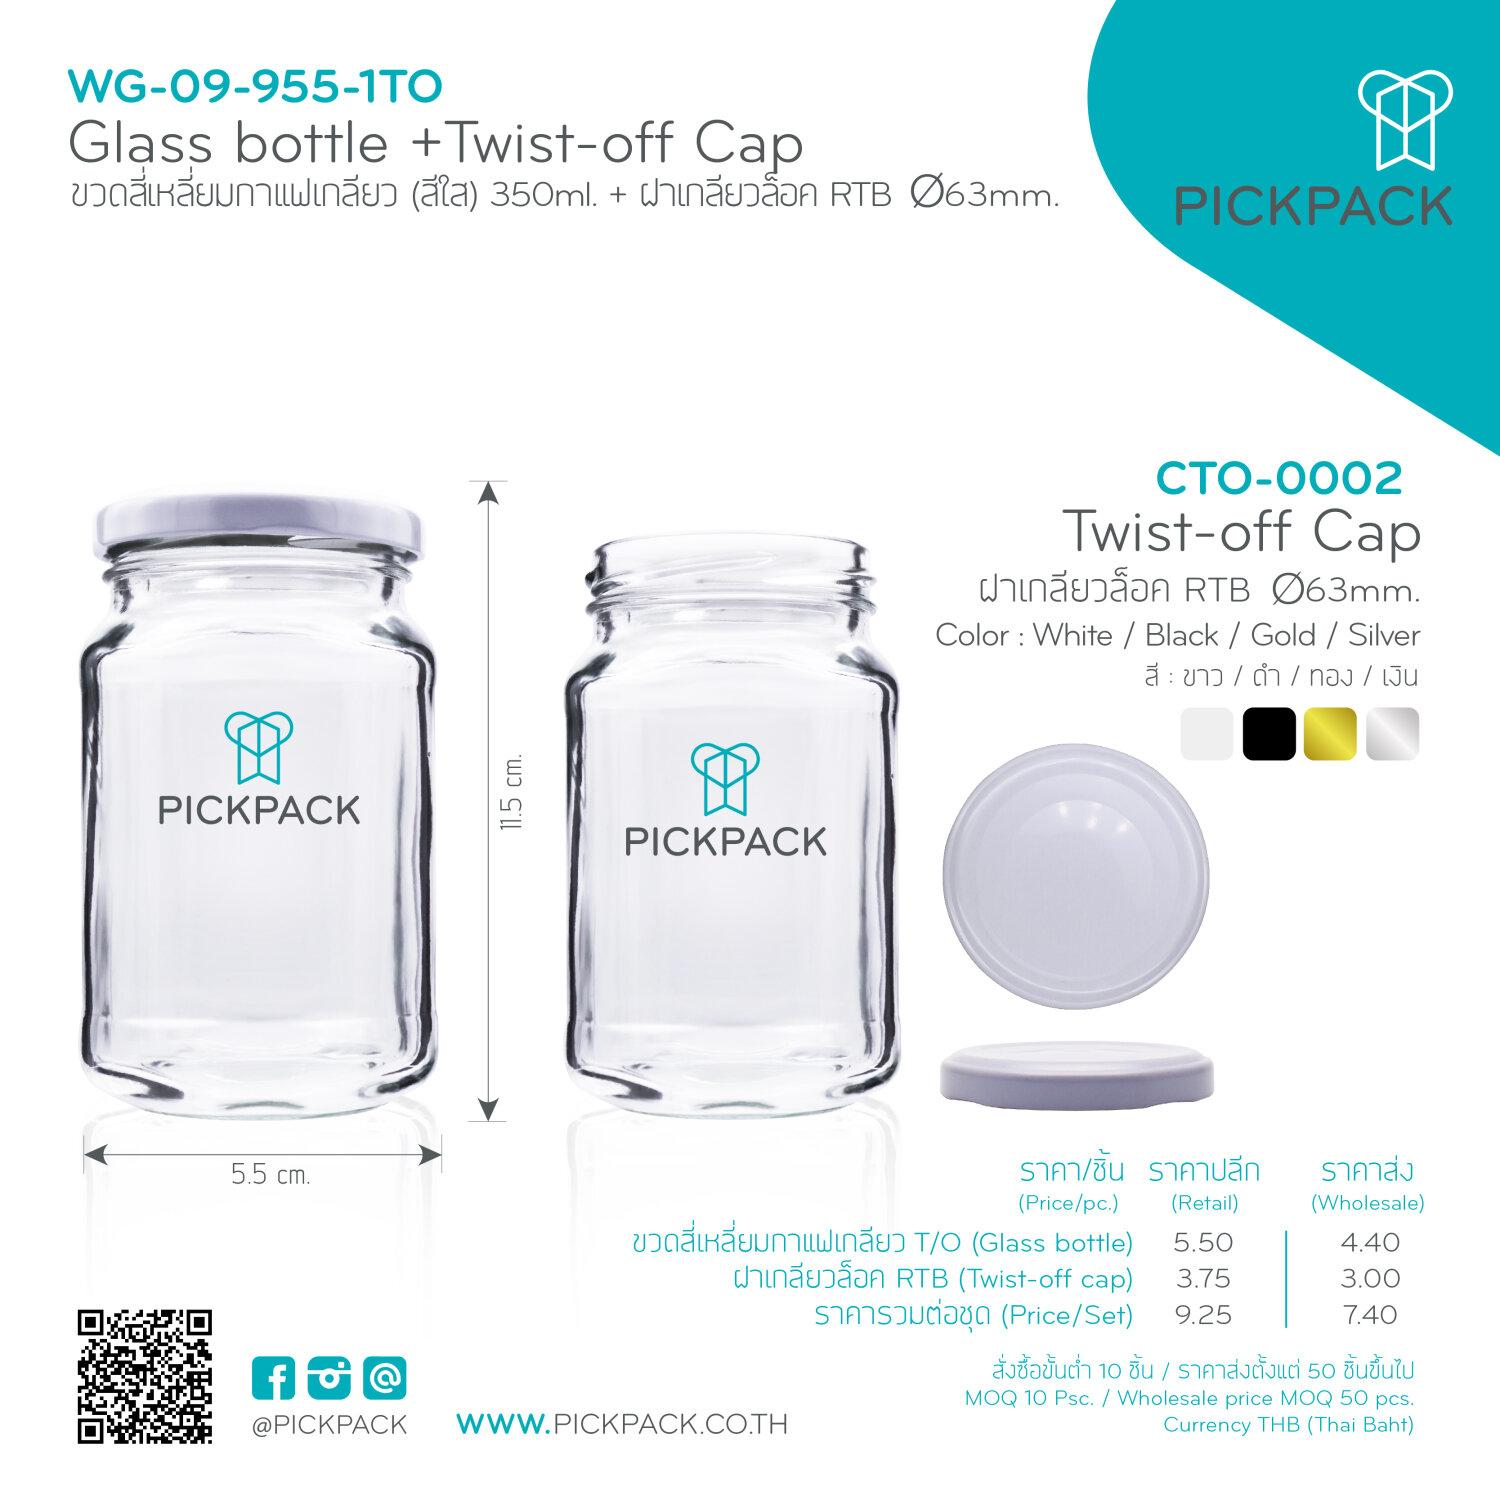glass_bottle: (66, 475, 456, 1128), (549, 508, 912, 1147)
